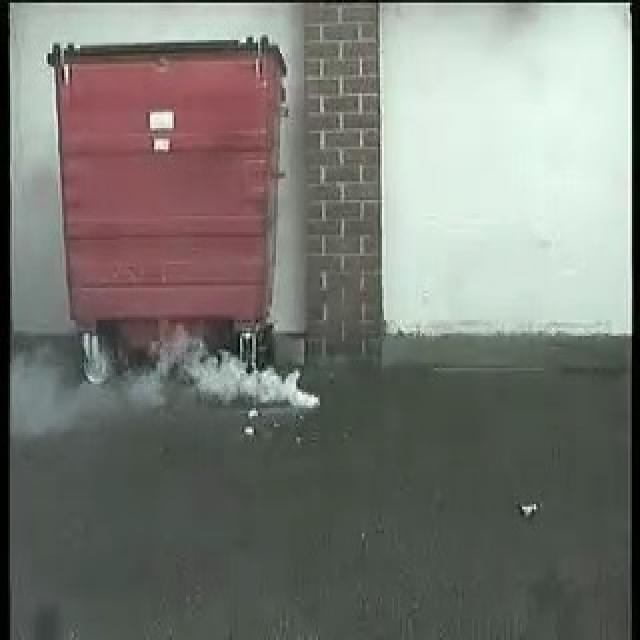smoke: (104, 326, 318, 409)
